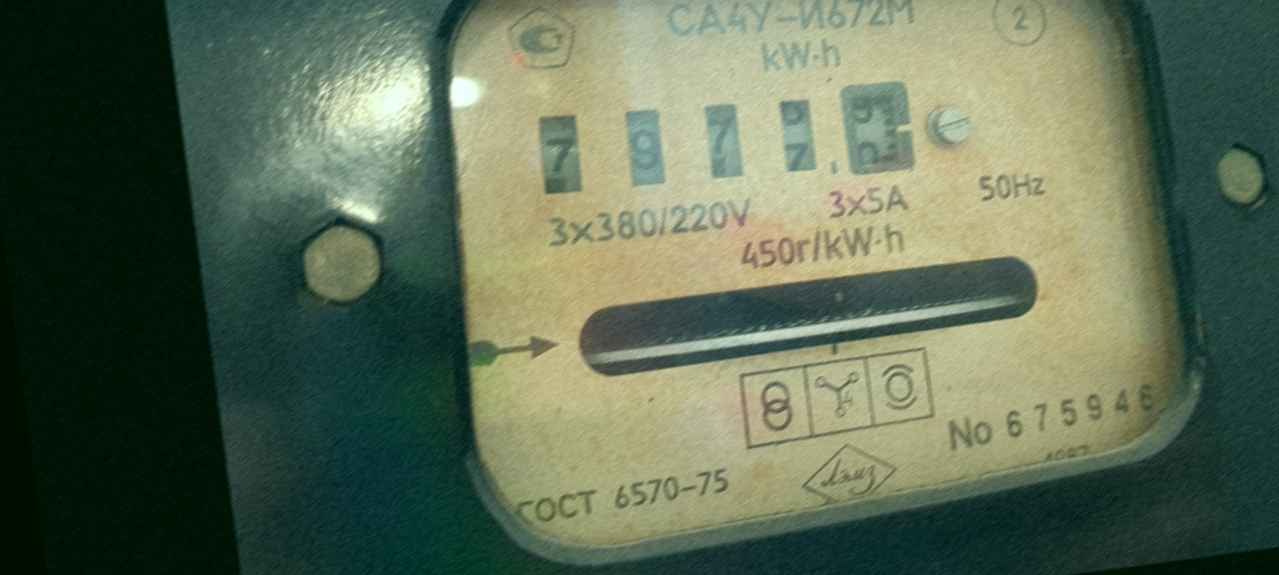0: (854, 137, 881, 169)
7: (540, 131, 579, 180), (780, 133, 815, 178), (705, 114, 738, 159)
9: (626, 125, 663, 176), (847, 93, 881, 129)
screen: (521, 56, 935, 234)
